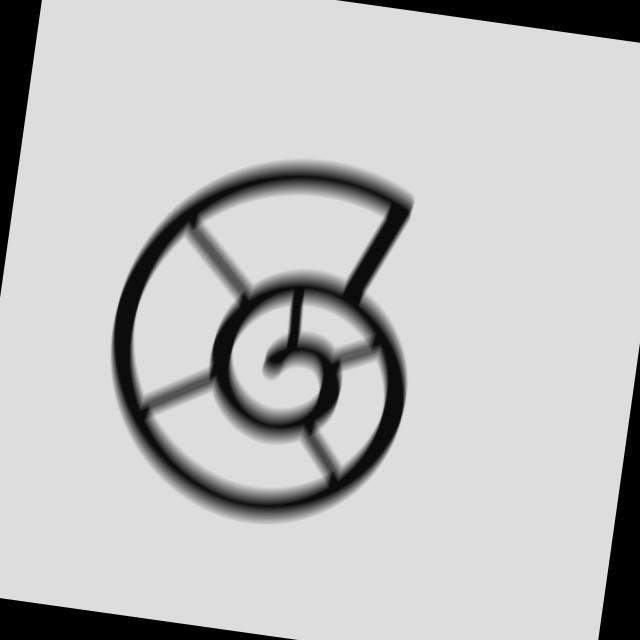fossil: (83, 130, 447, 550)
